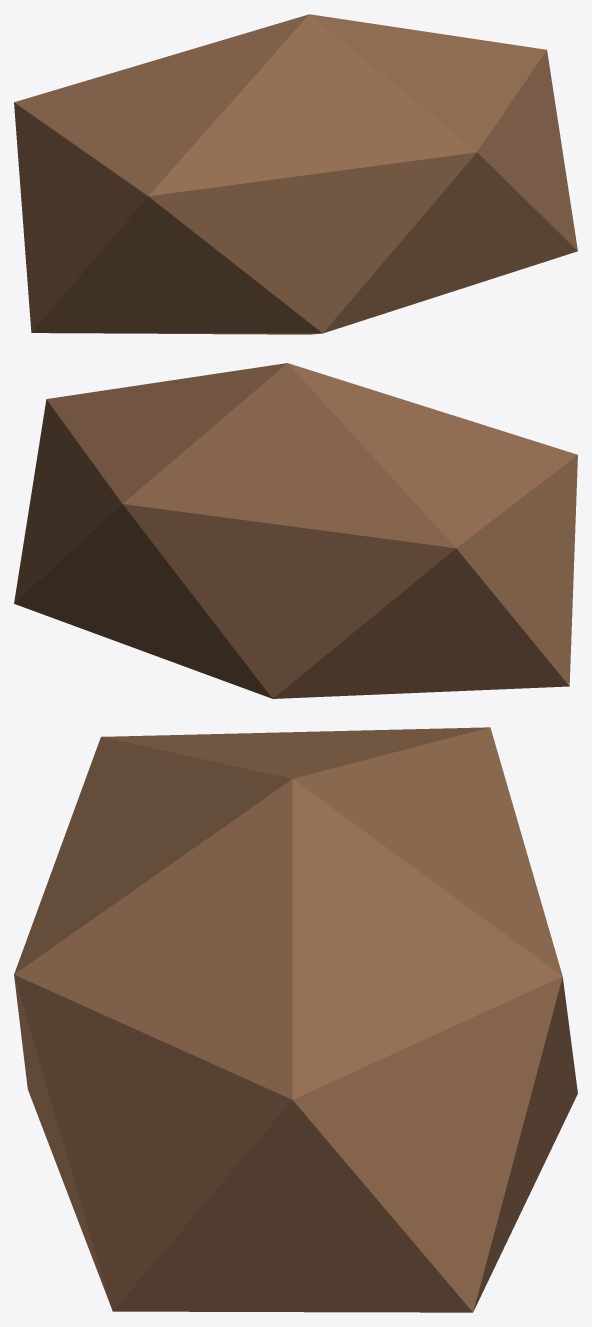
The model's file is w3d_item_clay_s.glb.
The picture shows the model from 3 angles, top to bottom: view 1: azimuth 30°, elevation 25°; view 2: azimuth 150°, elevation 25°; view 3: azimuth 270°, elevation 25°; orthographic projection. The views are drawn at different scales.
Visible parts, largest first — view 1: item_007_clay_s; view 2: item_007_clay_s; view 3: item_007_clay_s.
Boxes of the visible parts, x1,y1,x2,y2 form: item_007_clay_s: [14, 14, 577, 334]; item_007_clay_s: [14, 363, 577, 698]; item_007_clay_s: [14, 727, 577, 1312].
Bounding box in the file's own units: 0.3145 × 0.1868 × 0.1945.
